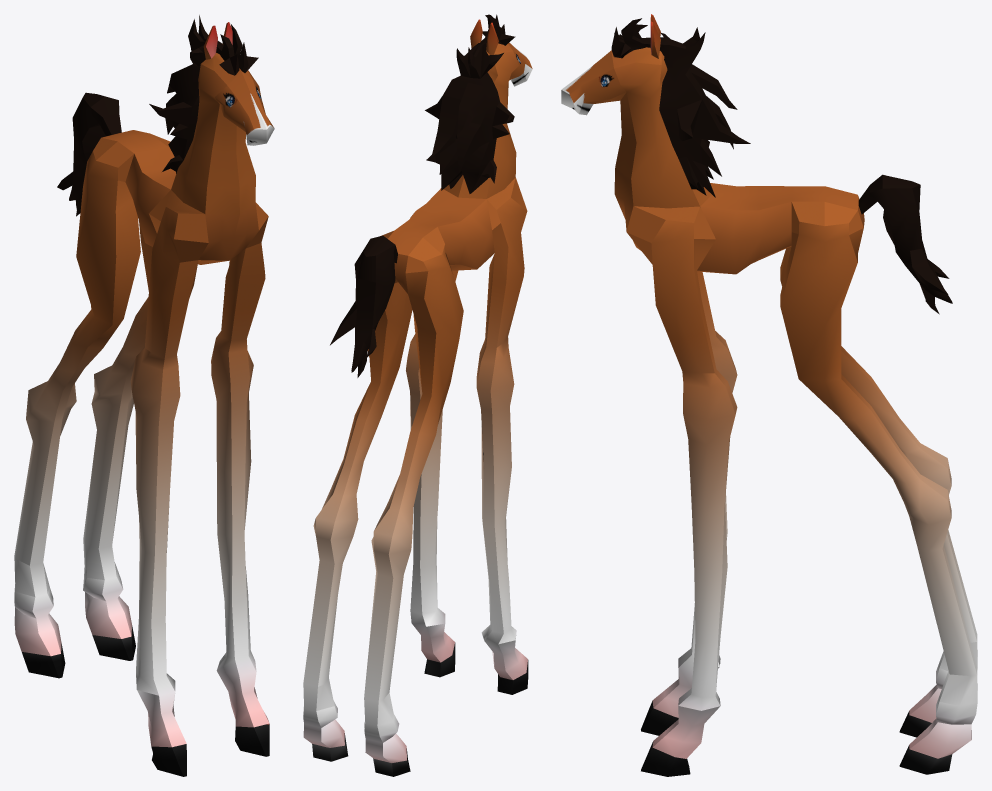
File: horse_final.obj
3 views of the same model, side by side, from view 1: azimuth 30°, elevation 25°; view 2: azimuth 150°, elevation 25°; view 3: azimuth 270°, elevation 25° (orthographic). The views are drawn at different scales.
Visible parts, largest first — view 1: horse, pPlane1, tail; view 2: horse, pPlane1, tail; view 3: horse, pPlane1, tail.
Boxes of the visible parts, bbox=[...] form: horse: bbox=[14, 22, 274, 776]; pPlane1: bbox=[149, 15, 258, 173]; tail: bbox=[57, 92, 121, 216]; horse: bbox=[303, 19, 532, 776]; pPlane1: bbox=[425, 14, 515, 193]; tail: bbox=[330, 235, 397, 377]; horse: bbox=[561, 14, 977, 776]; pPlane1: bbox=[611, 18, 750, 197]; tail: bbox=[858, 174, 952, 314].
Size of the model in its own units: 60.45 by 353 by 181.
Materials: 3 (1 with a texture image).
